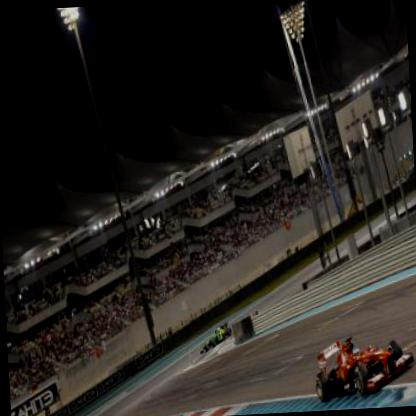car: (312, 335, 414, 399), (198, 320, 230, 350)
